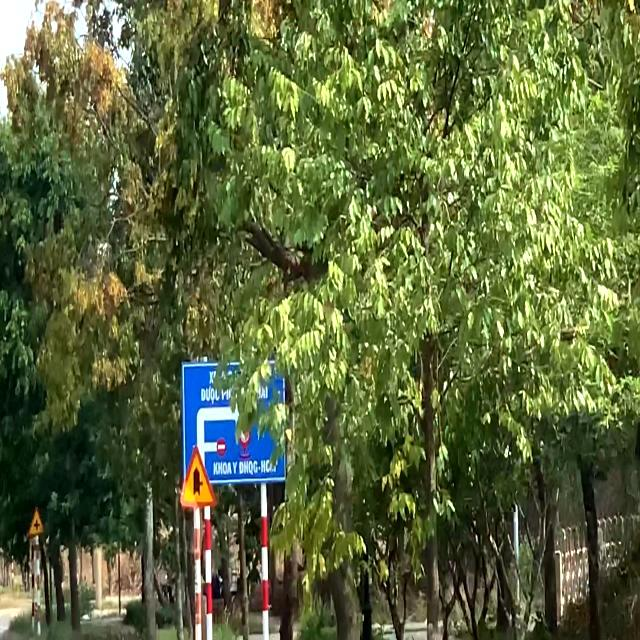Cam di nguoc chieu: (216, 438, 226, 456)
Giao nhau voi duong khong uu tien ben phai: (178, 444, 218, 508)
